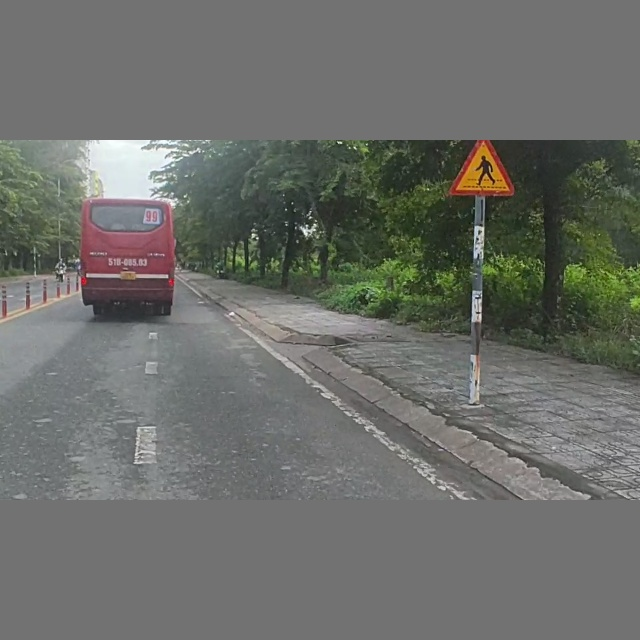W.224: (449, 142, 523, 197)
